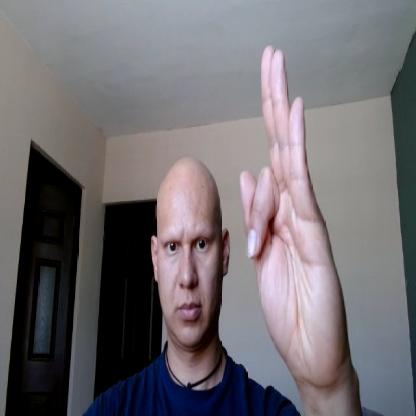F: (240, 44, 342, 384)
